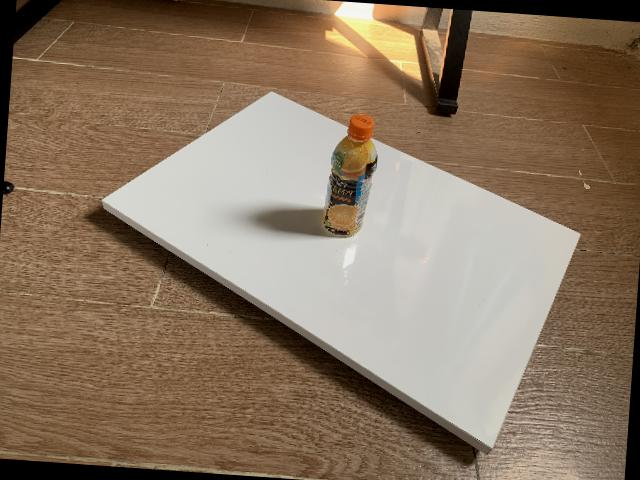teppy_orange_juice: (321, 114, 377, 237)
